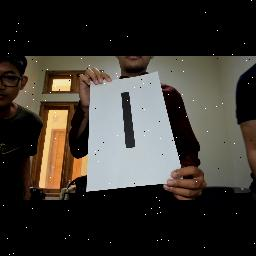i: (112, 90, 156, 158)
